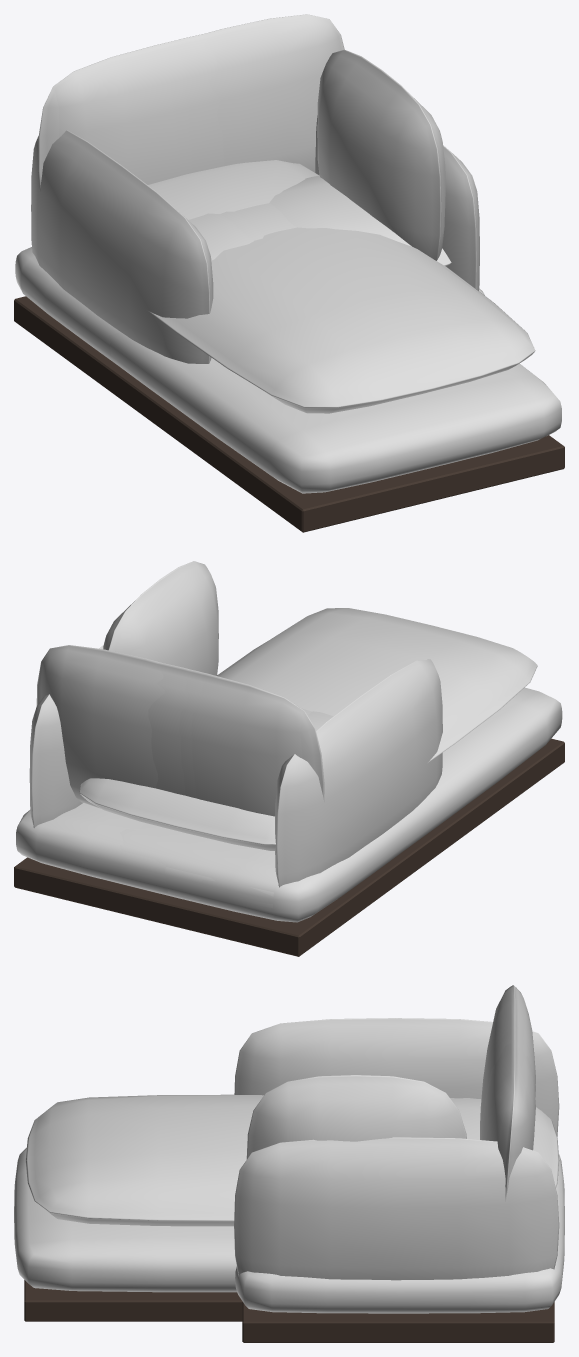
Rendered from modules-low.glb.
3 views of the same model, one above another, from view 1: azimuth 30°, elevation 25°; view 2: azimuth 150°, elevation 25°; view 3: azimuth 270°, elevation 25° (orthographic). The views are drawn at different scales.
Parts seen in each view (by area): view 1: chaise, arm_left, corner, arm_right, ottoman, armless; view 2: chaise, arm_left, ottoman, arm_right, corner, armless; view 3: chaise, arm_right, arm_left, corner, ottoman.
Part boxes in pixels (x1=…): chaise: x1=14, y1=47, x2=564, y2=532; arm_left: x1=31, y1=14, x2=484, y2=363; corner: x1=38, y1=33, x2=445, y2=362; arm_right: x1=51, y1=44, x2=479, y2=290; ottoman: x1=15, y1=160, x2=318, y2=342; armless: x1=84, y1=41, x2=296, y2=362; chaise: x1=58, y1=608, x2=564, y2=956; arm_left: x1=14, y1=645, x2=442, y2=956; ottoman: x1=79, y1=778, x2=382, y2=922; arm_right: x1=29, y1=645, x2=311, y2=827; corner: x1=29, y1=561, x2=407, y2=898; armless: x1=59, y1=669, x2=405, y2=956; chaise: x1=14, y1=1021, x2=564, y2=1321; arm_right: x1=234, y1=985, x2=559, y2=1280; arm_left: x1=234, y1=1018, x2=564, y2=1342; corner: x1=246, y1=1025, x2=564, y2=1315; ottoman: x1=450, y1=1098, x2=564, y2=1216.
Bounding box in the file's own units: 1.04 × 0.808 × 1.64.
